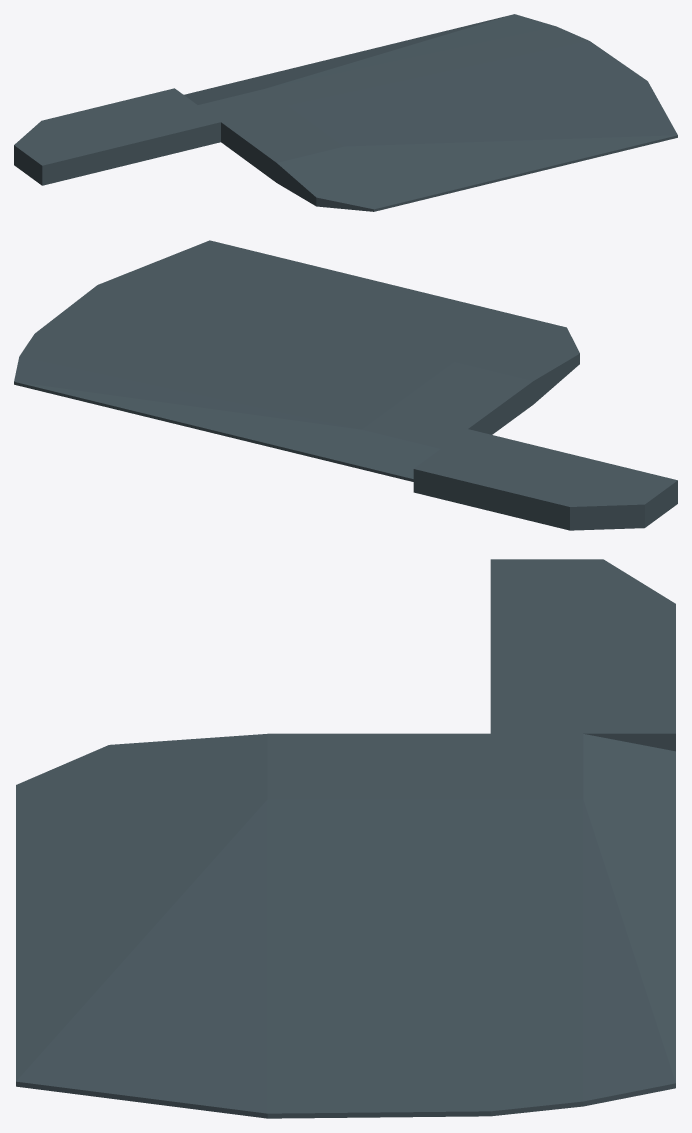
Rendered from ЗУР-РО-РМ-Руль.fbx.
3 renders of one model, top to bottom at view 1: azimuth 30°, elevation 25°; view 2: azimuth 150°, elevation 25°; view 3: azimuth 270°, elevation 25°, orthographic. The views are drawn at different scales.
Parts seen in each view (by area): view 1: ЗУР-РМ-Руль; view 2: ЗУР-РМ-Руль; view 3: ЗУР-РМ-Руль.
Boxes of the visible parts, x1,y1,x2,y2 form: ЗУР-РМ-Руль: (14, 14, 677, 211); ЗУР-РМ-Руль: (14, 240, 677, 530); ЗУР-РМ-Руль: (16, 559, 675, 1118).
Size of the model in its own units: 69.09 by 2.41 by 35.9.
Materials: 1 (1 with a texture image).
